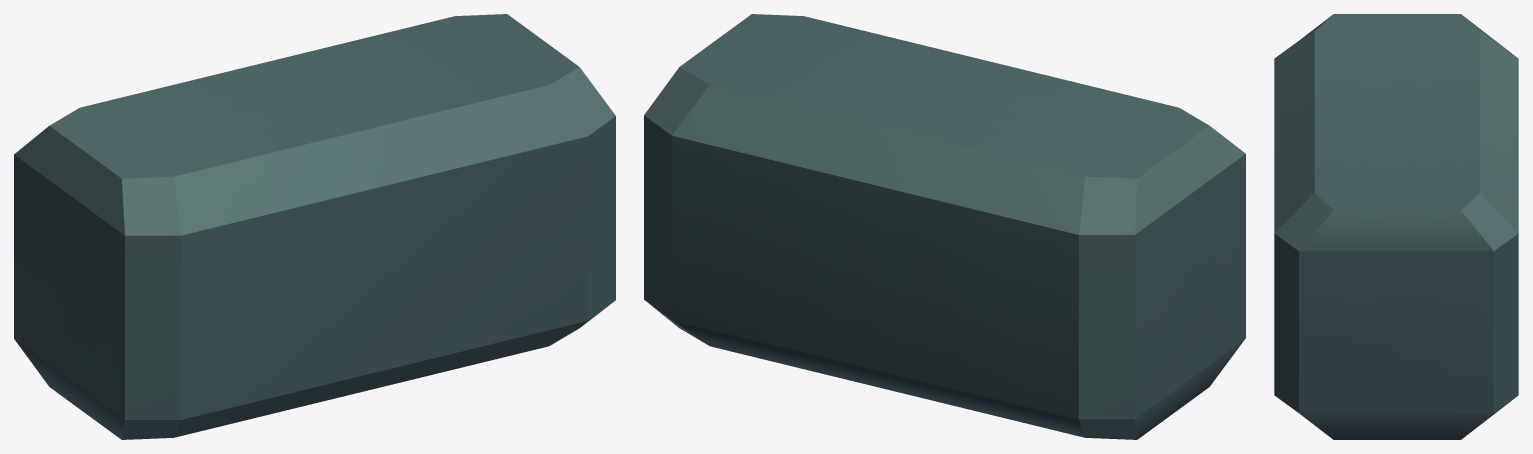
The model's file is archway_small_bridge_part_medium.fbx.
3 views of the same model, side by side, from view 1: azimuth 30°, elevation 25°; view 2: azimuth 150°, elevation 25°; view 3: azimuth 270°, elevation 25° (orthographic). The views are drawn at different scales.
Parts seen in each view (by area): view 1: archway_small_bridge_part_medium; view 2: archway_small_bridge_part_medium; view 3: archway_small_bridge_part_medium.
Boxes of the visible parts, bbox=[...] form: archway_small_bridge_part_medium: bbox=[14, 14, 615, 439]; archway_small_bridge_part_medium: bbox=[644, 14, 1245, 439]; archway_small_bridge_part_medium: bbox=[1274, 14, 1518, 439].
Bounding box in the file's own units: 111 × 56.68 × 54.66.
